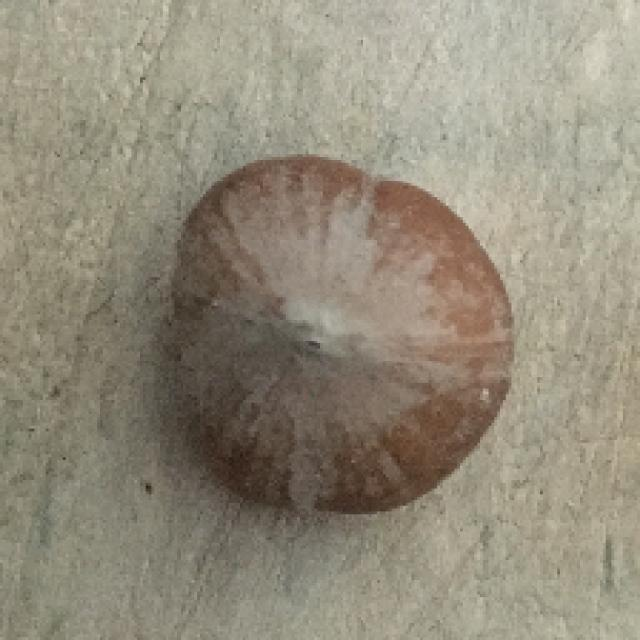qualityHazelnut: (169, 158, 512, 516)
